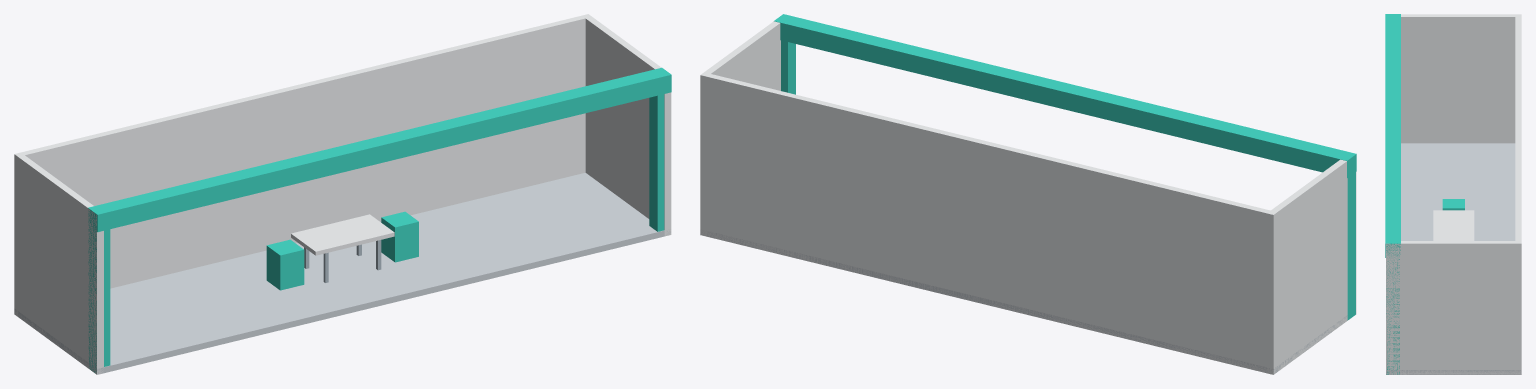
3 renders of one model, left to right at view 1: azimuth 30°, elevation 25°; view 2: azimuth 150°, elevation 25°; view 3: azimuth 270°, elevation 25°, orthographic. The views are drawn at different scales.
Parts seen in each view (by area): view 1: Exhibition Booth Concept; view 2: Exhibition Booth Concept; view 3: Exhibition Booth Concept.
Boxes of the visible parts, left/top/right/bottom form: Exhibition Booth Concept: left=14, top=14, right=671, bottom=374; Exhibition Booth Concept: left=700, top=14, right=1356, bottom=374; Exhibition Booth Concept: left=1385, top=14, right=1521, bottom=374.
Size of the model in its own units: 12 by 3.2 by 3.01.
